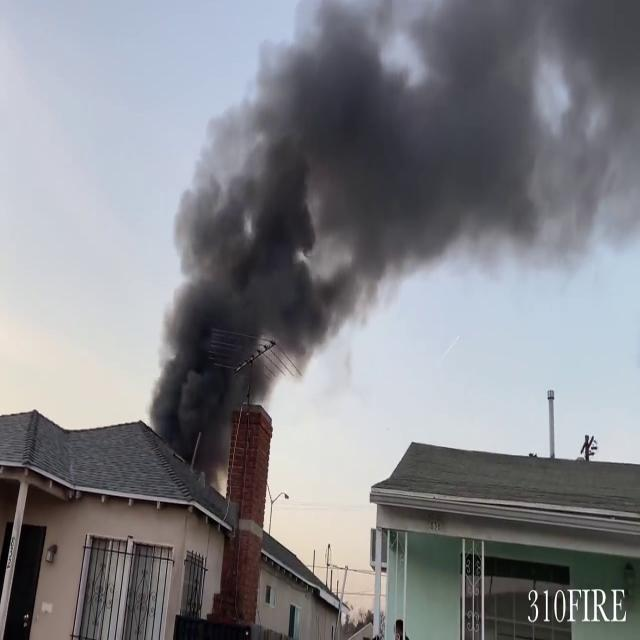Smoke: (148, 0, 626, 455)
